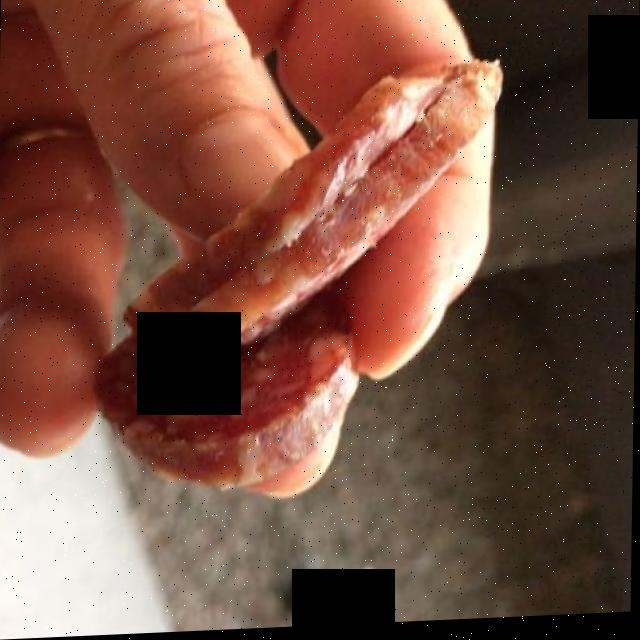salami: (98, 43, 513, 518)
